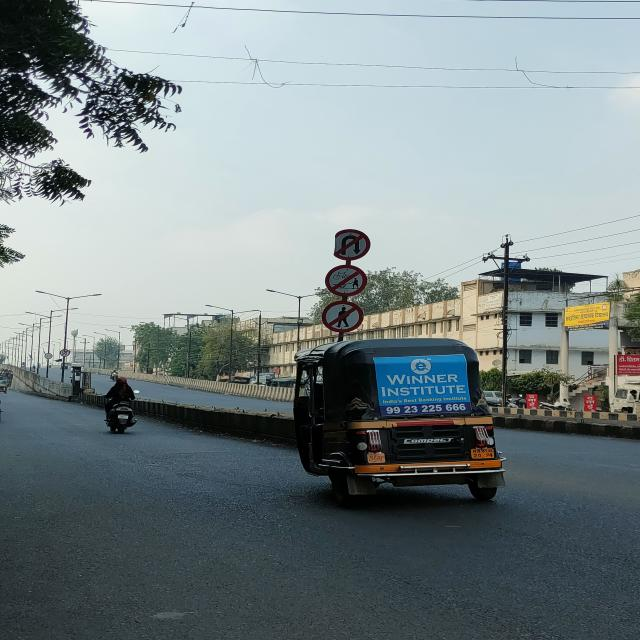cycle_prohibited: (324, 265, 367, 297)
